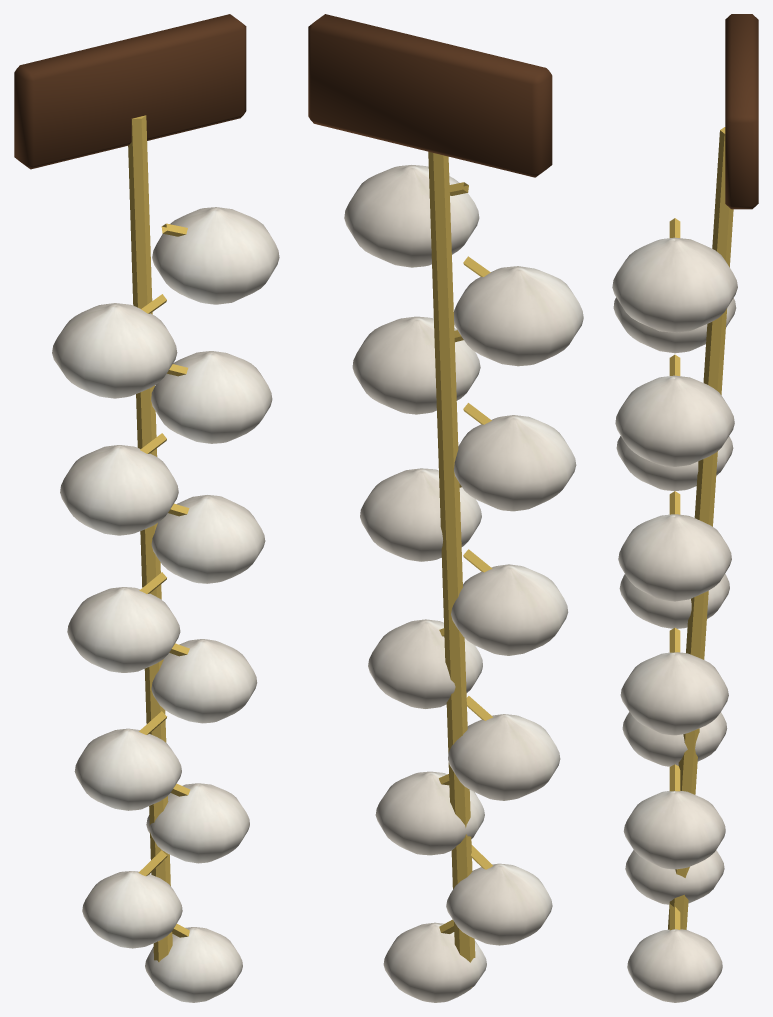
The model's file is hanging_garlic_braid.glb.
3 views of the same model, side by side, from view 1: azimuth 30°, elevation 25°; view 2: azimuth 150°, elevation 25°; view 3: azimuth 270°, elevation 25° (orthographic). The views are drawn at different scales.
Parts seen in each view (by area): view 1: hanging_garlic_braid; view 2: hanging_garlic_braid; view 3: hanging_garlic_braid.
Boxes of the visible parts, left/top/right/bottom form: hanging_garlic_braid: left=14, top=14, right=279, bottom=1002; hanging_garlic_braid: left=308, top=14, right=583, bottom=1002; hanging_garlic_braid: left=612, top=14, right=758, bottom=1002.
Bounding box in the file's own units: 0.12 × 0.4852 × 0.07.
Materials: 3 (1 with a texture image).
